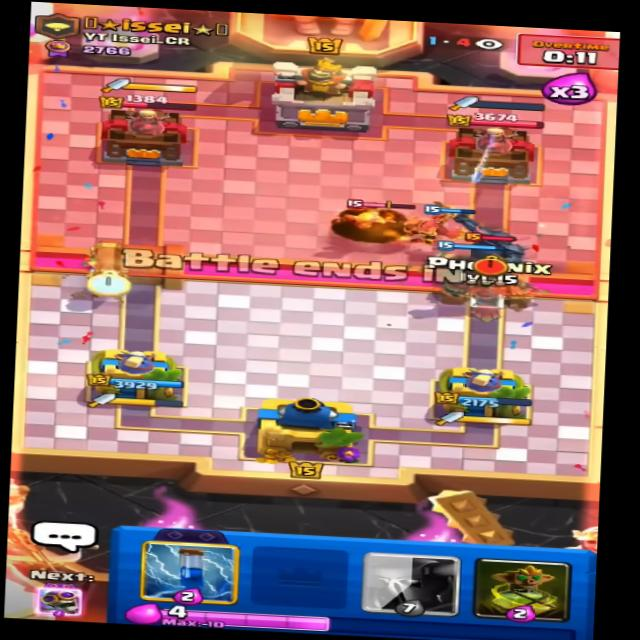goblin-demolisher: (331, 201, 411, 251)
pekka: (446, 225, 537, 269)
